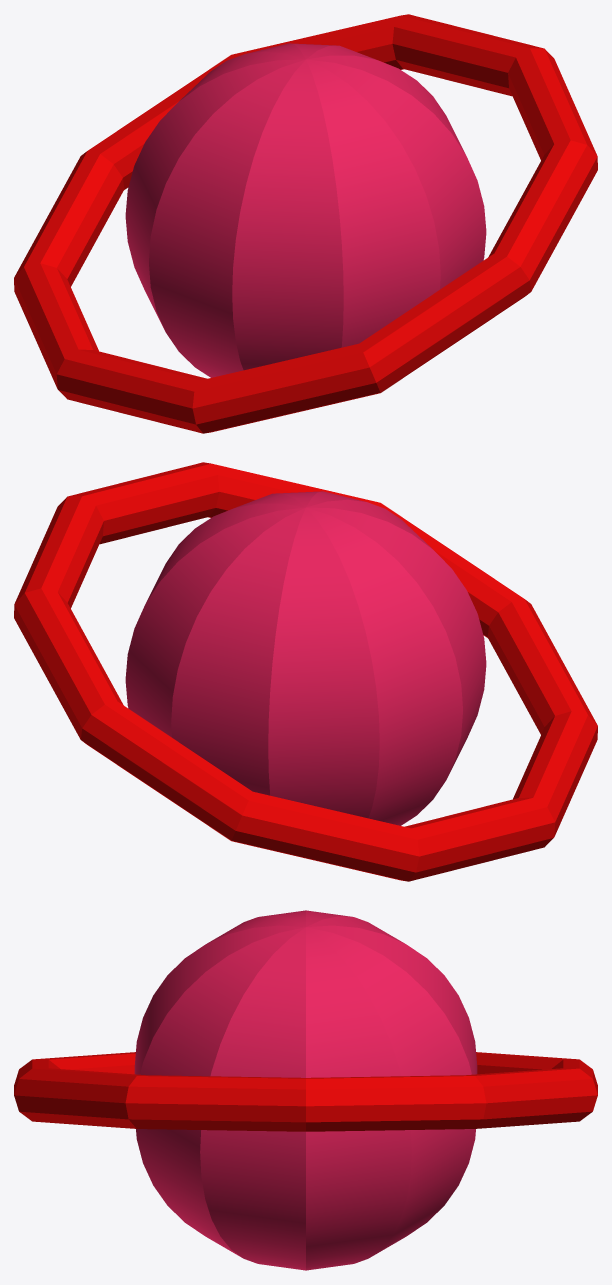
The model's file is FiiveStage.fbx.
3 views of the same model, one above another, from view 1: azimuth 30°, elevation 25°; view 2: azimuth 150°, elevation 25°; view 3: azimuth 270°, elevation 25° (orthographic).
Visible parts, largest first — view 1: polySurface2; view 2: polySurface2; view 3: polySurface2.
Part boxes in pixels (x1,y1,x2,y2): polySurface2: [14, 14, 597, 433]; polySurface2: [14, 462, 597, 881]; polySurface2: [14, 910, 597, 1270].
Size of the model in its own units: 2.54 by 1.6 by 2.59.
